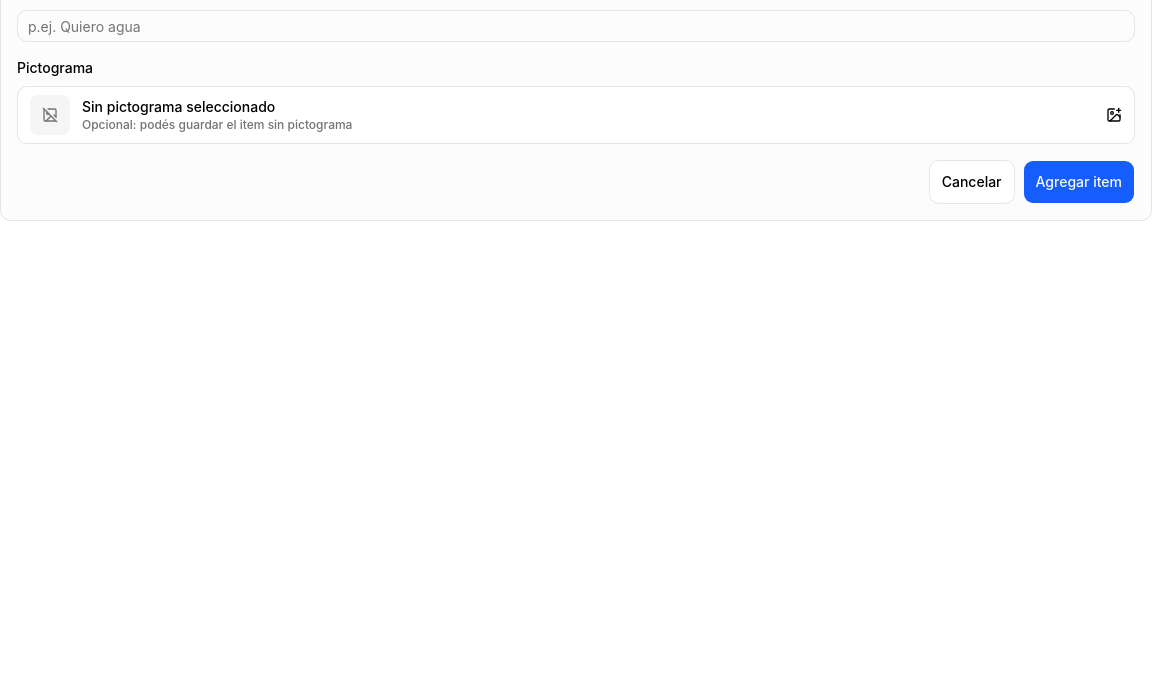
Test: FormItemInline — submit lock mientras el panel está abierto (Commit 1, tarea 4.8) › el submit vuelve a habilitarse (sin aria-describedby) al cancelar la selección
Step 1. Click the button "Sin pictograma seleccionado" → (50,114), box [17, 86, 1135, 144]
(page scrolled)
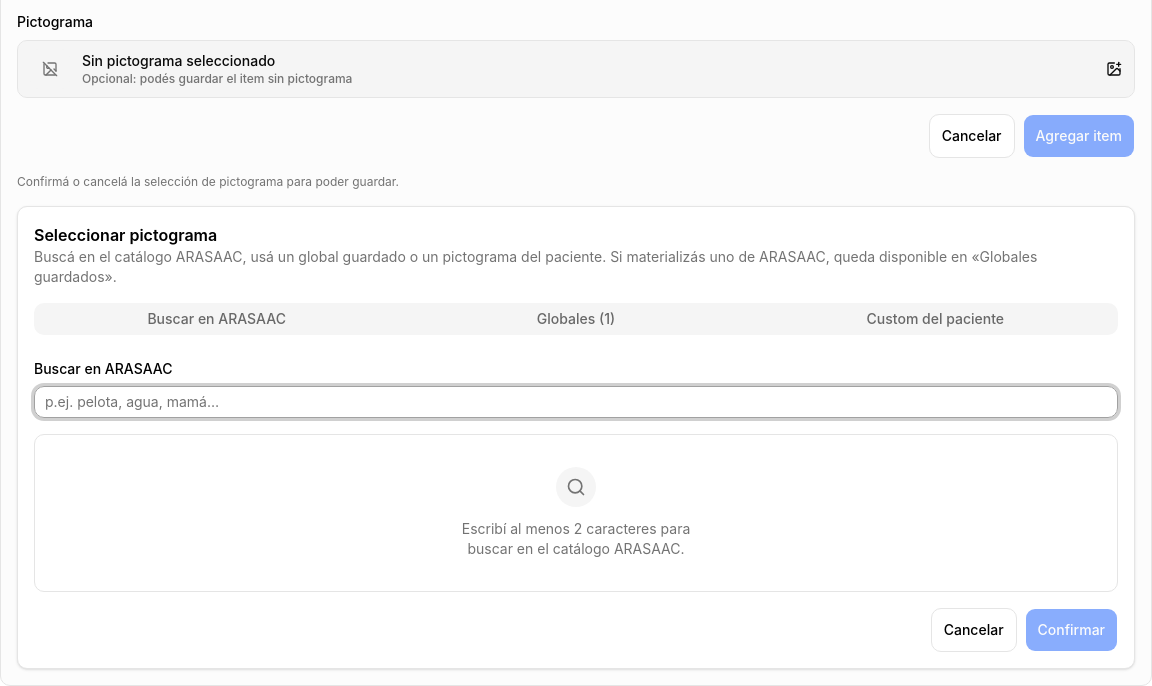
Step 2. Click the 2nd button "Cancelar" → (974,630), box [931, 608, 1016, 652]
(page scrolled)
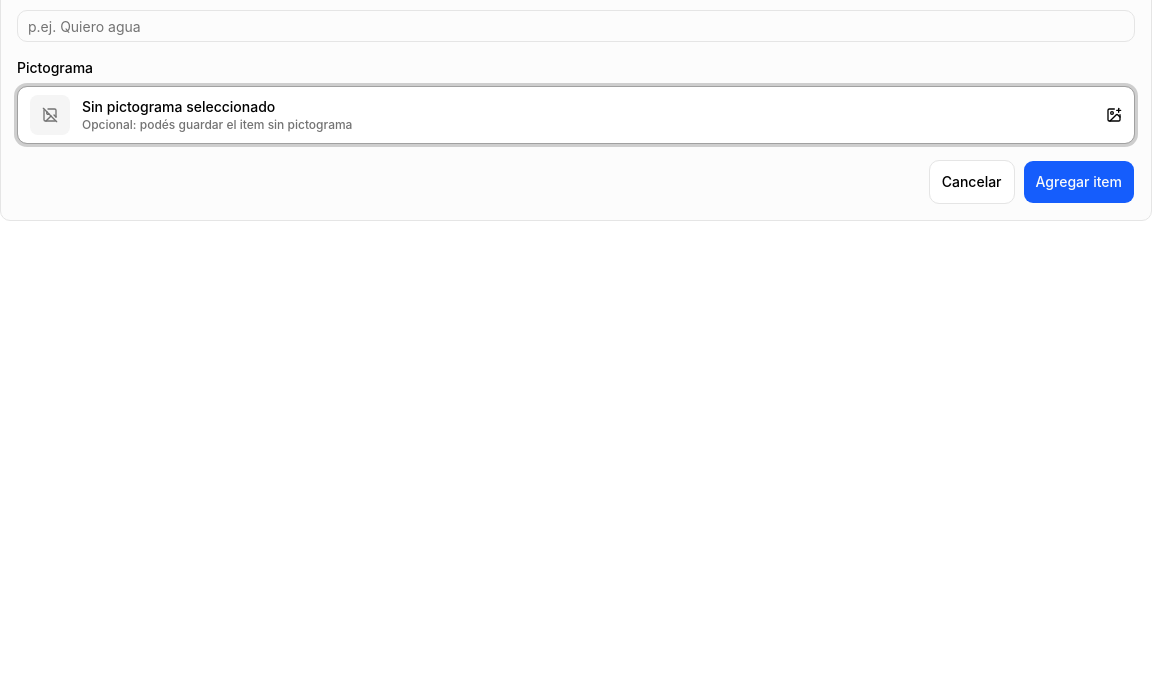
Result: the button "Agregar item" is enabled at [1022, 160, 1135, 204]
